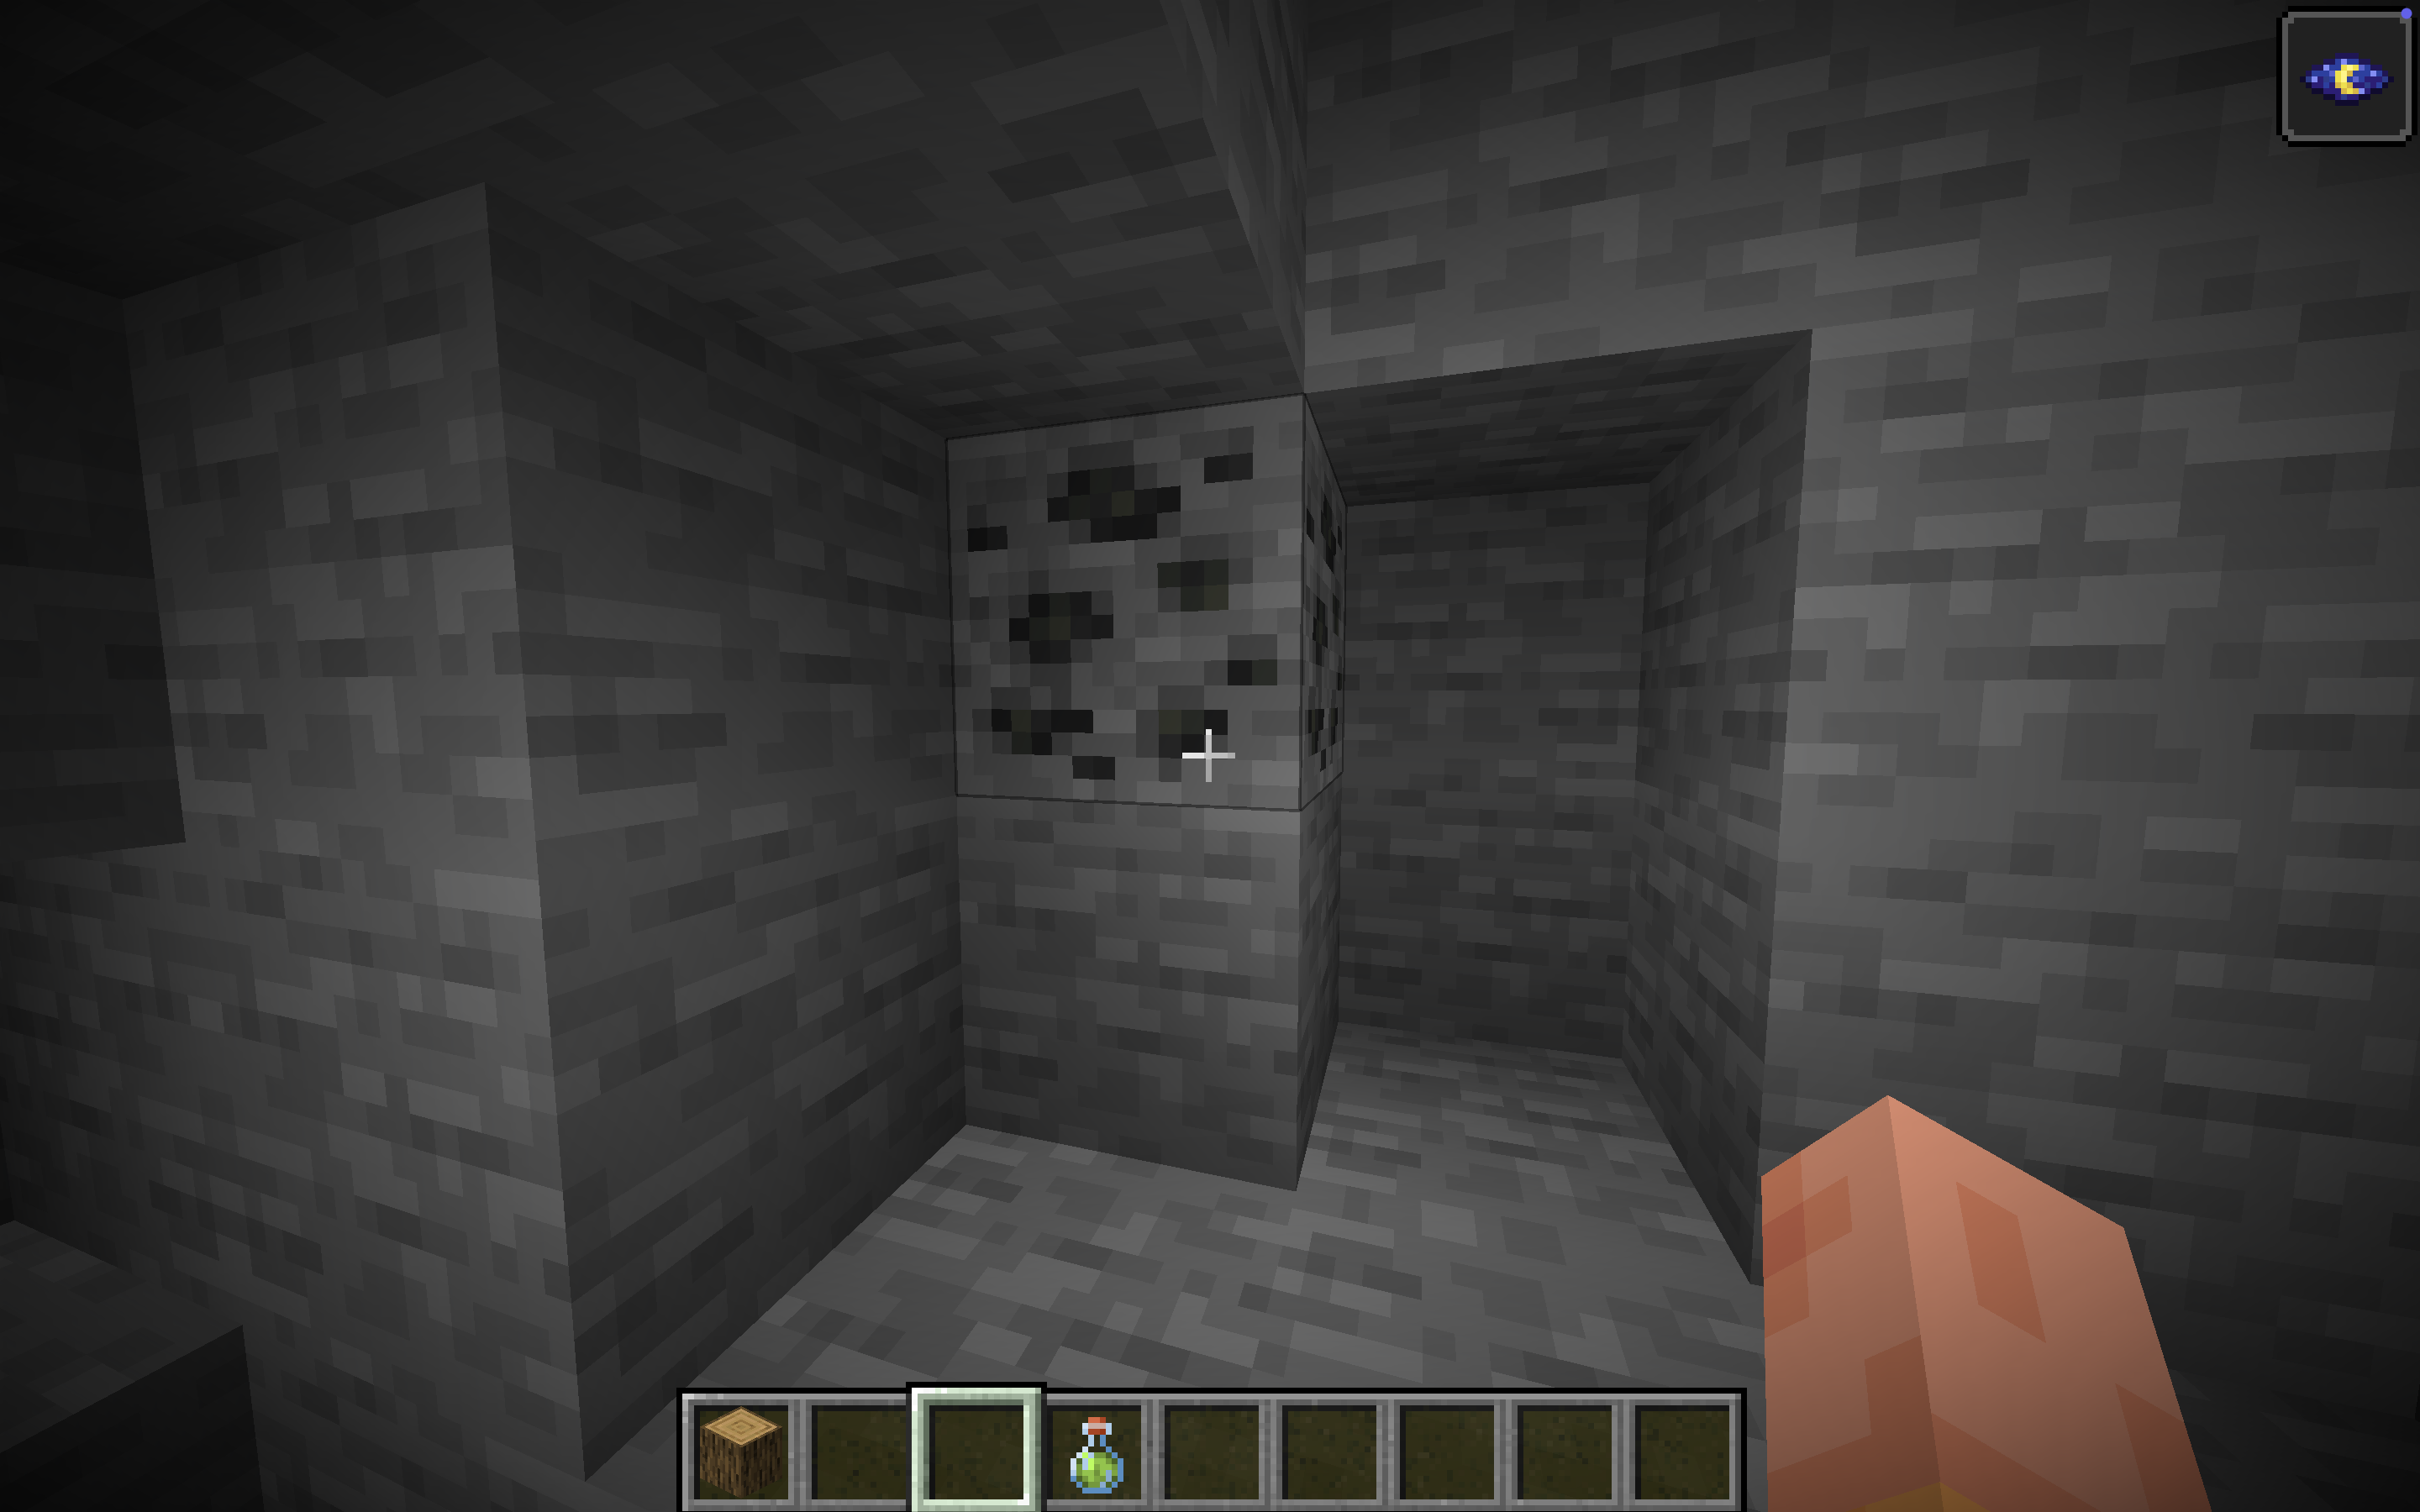coal: (443, 219, 1800, 1052)
